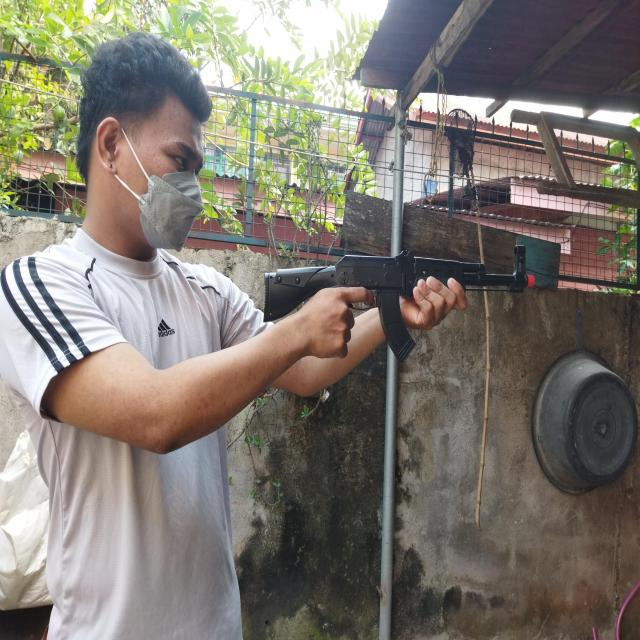rifle: (263, 245, 535, 364)
